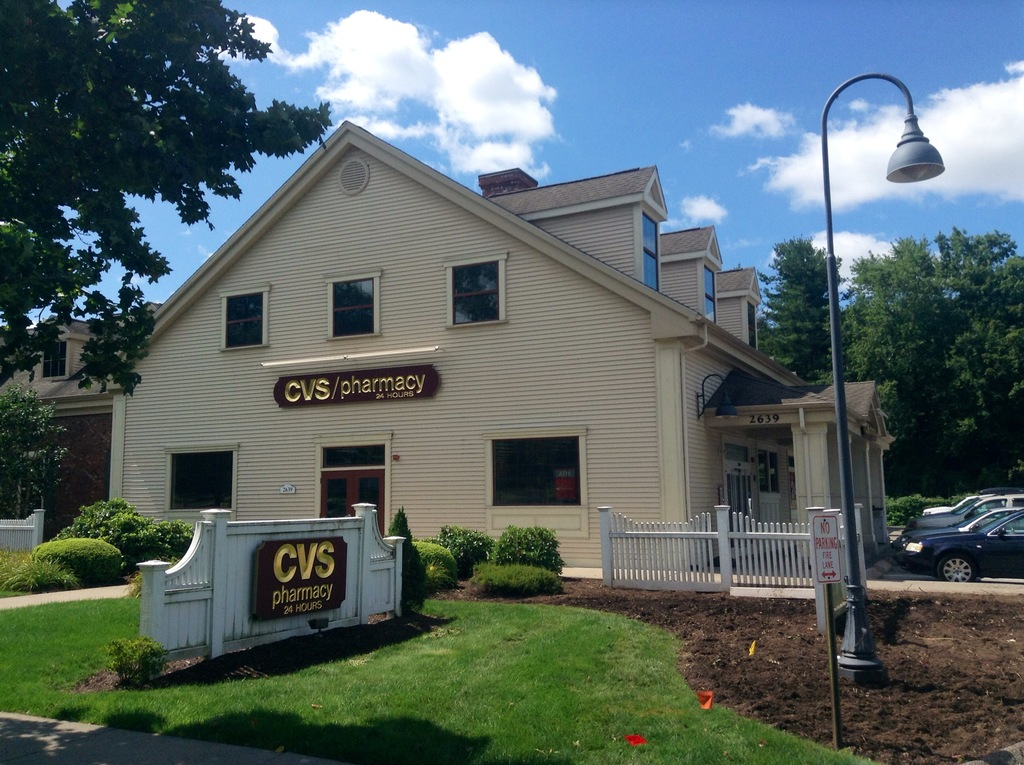Tree: (0, 0, 355, 457), (750, 231, 1023, 496)
